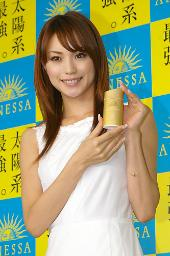face: (48, 46, 94, 96)
